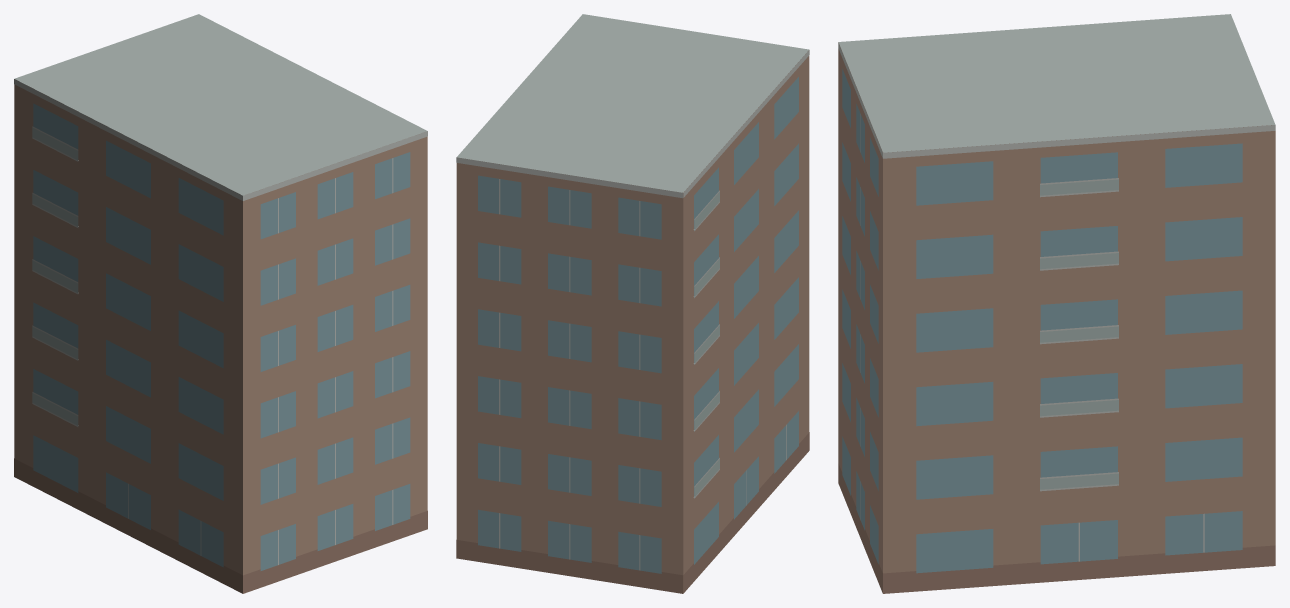
File: survey-upis-32633251.glb
3 renders of one model, left to right at view 1: azimuth 30°, elevation 25°; view 2: azimuth 150°, elevation 25°; view 3: azimuth 270°, elevation 25°, orthographic. The views are drawn at different scales.
Visible parts, largest first — view 1: survey-upis-32633251.tmp; view 2: survey-upis-32633251.tmp; view 3: survey-upis-32633251.tmp.
Boxes of the visible parts, x1=… form: survey-upis-32633251.tmp: x1=14, y1=14, x2=427, y2=593; survey-upis-32633251.tmp: x1=456, y1=14, x2=809, y2=593; survey-upis-32633251.tmp: x1=838, y1=14, x2=1275, y2=593.
Bounding box in the file's own units: 12.09 × 17.9 × 16.09.
